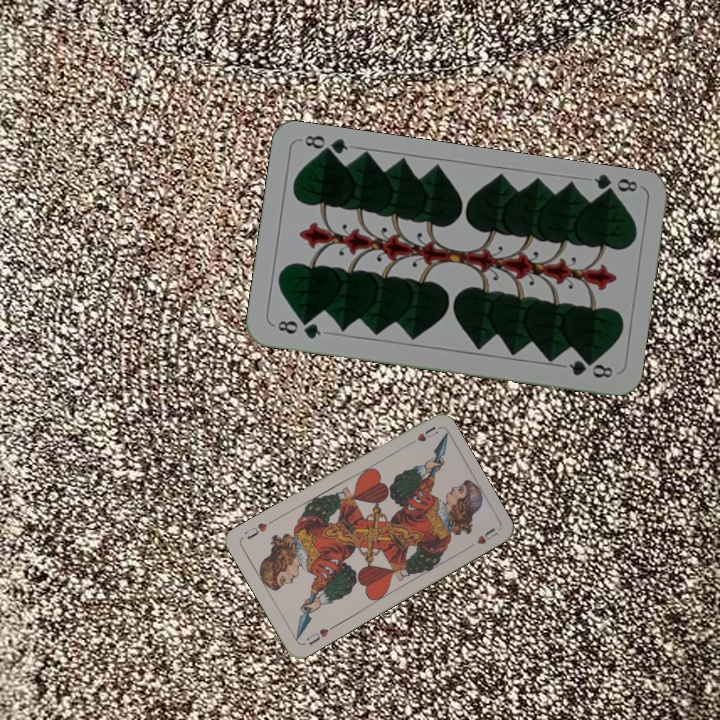G8: (590, 171, 640, 201), (273, 316, 324, 342)
HU: (402, 422, 441, 449), (302, 622, 337, 648)
